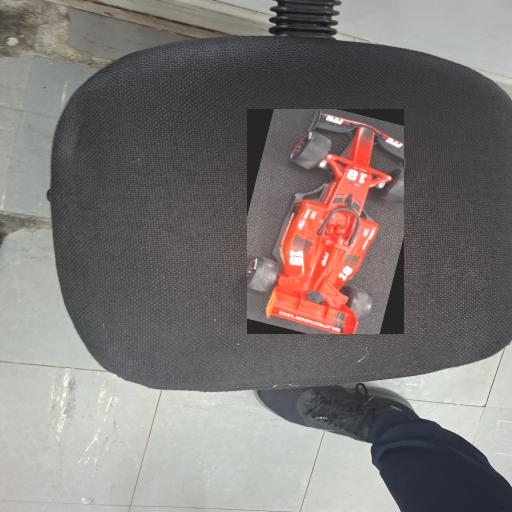carro: (247, 109, 404, 334)
